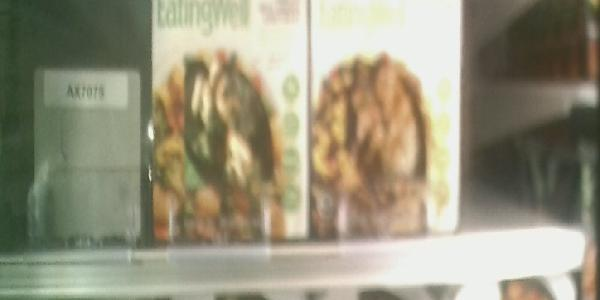pizza1: (152, 1, 309, 246), (311, 1, 458, 241)
